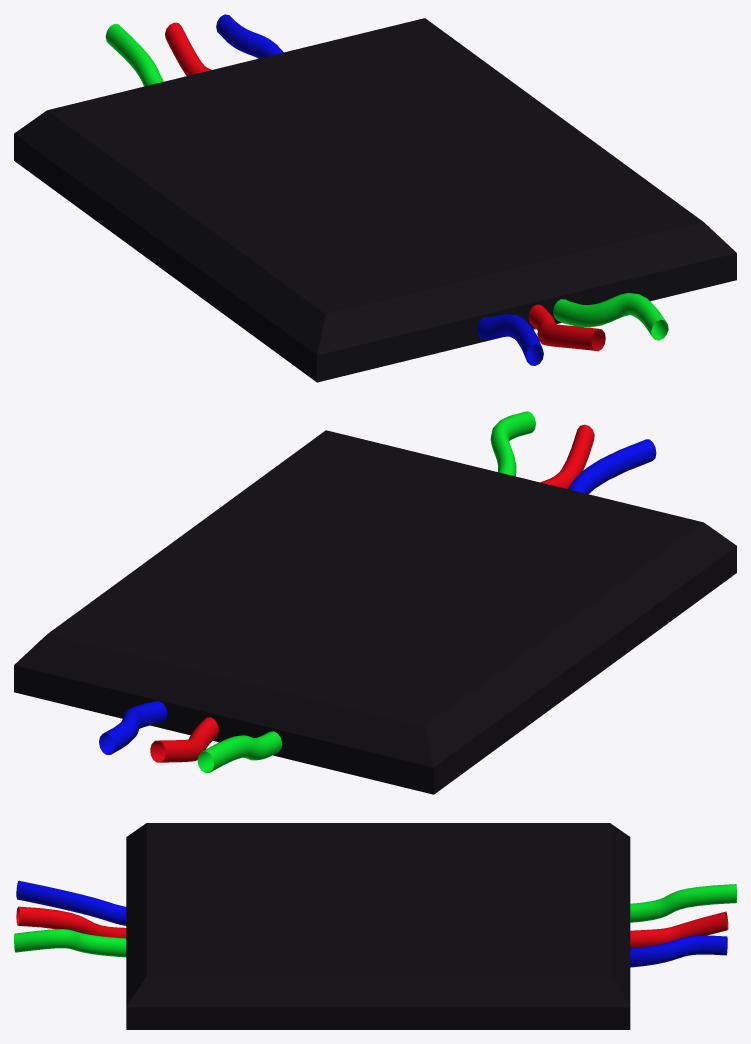
Rendered from slot1.fbx.
3 views of the same model, one above another, from view 1: azimuth 30°, elevation 25°; view 2: azimuth 150°, elevation 25°; view 3: azimuth 270°, elevation 25° (orthographic). The views are drawn at different scales.
Parts seen in each view (by area): view 1: Cube.001, BezierCurve.006, BezierCurve.008, BezierCurve.007, BezierCurve.009, BezierCurve.010, BezierCurve.011; view 2: Cube.001, BezierCurve.007, BezierCurve.009, BezierCurve.010, BezierCurve.011, BezierCurve.006, BezierCurve.008; view 3: Cube.001, BezierCurve.006, BezierCurve.007, BezierCurve.009, BezierCurve.010, BezierCurve.008, BezierCurve.011.
Part boxes in pixels (x1,y1,x2,y2): Cube.001: (14, 18, 736, 382); BezierCurve.006: (553, 293, 668, 340); BezierCurve.008: (528, 304, 605, 351); BezierCurve.007: (477, 314, 543, 365); BezierCurve.009: (105, 24, 163, 86); BezierCurve.010: (216, 14, 283, 58); BezierCurve.011: (165, 22, 211, 75); Cube.001: (14, 430, 736, 794); BezierCurve.007: (568, 439, 656, 494); BezierCurve.009: (197, 731, 282, 773); BezierCurve.010: (99, 701, 167, 754); BezierCurve.011: (150, 717, 218, 762); BezierCurve.006: (490, 411, 535, 476); BezierCurve.008: (540, 424, 594, 488); Cube.001: (126, 823, 630, 1029); BezierCurve.006: (14, 929, 126, 957); BezierCurve.007: (16, 880, 126, 925); BezierCurve.009: (630, 884, 736, 922); BezierCurve.010: (630, 935, 727, 967); BezierCurve.008: (16, 906, 126, 938); BezierCurve.011: (630, 911, 728, 948).
Bounding box in the file's own units: 4.05 × 0.5 × 7.26.
